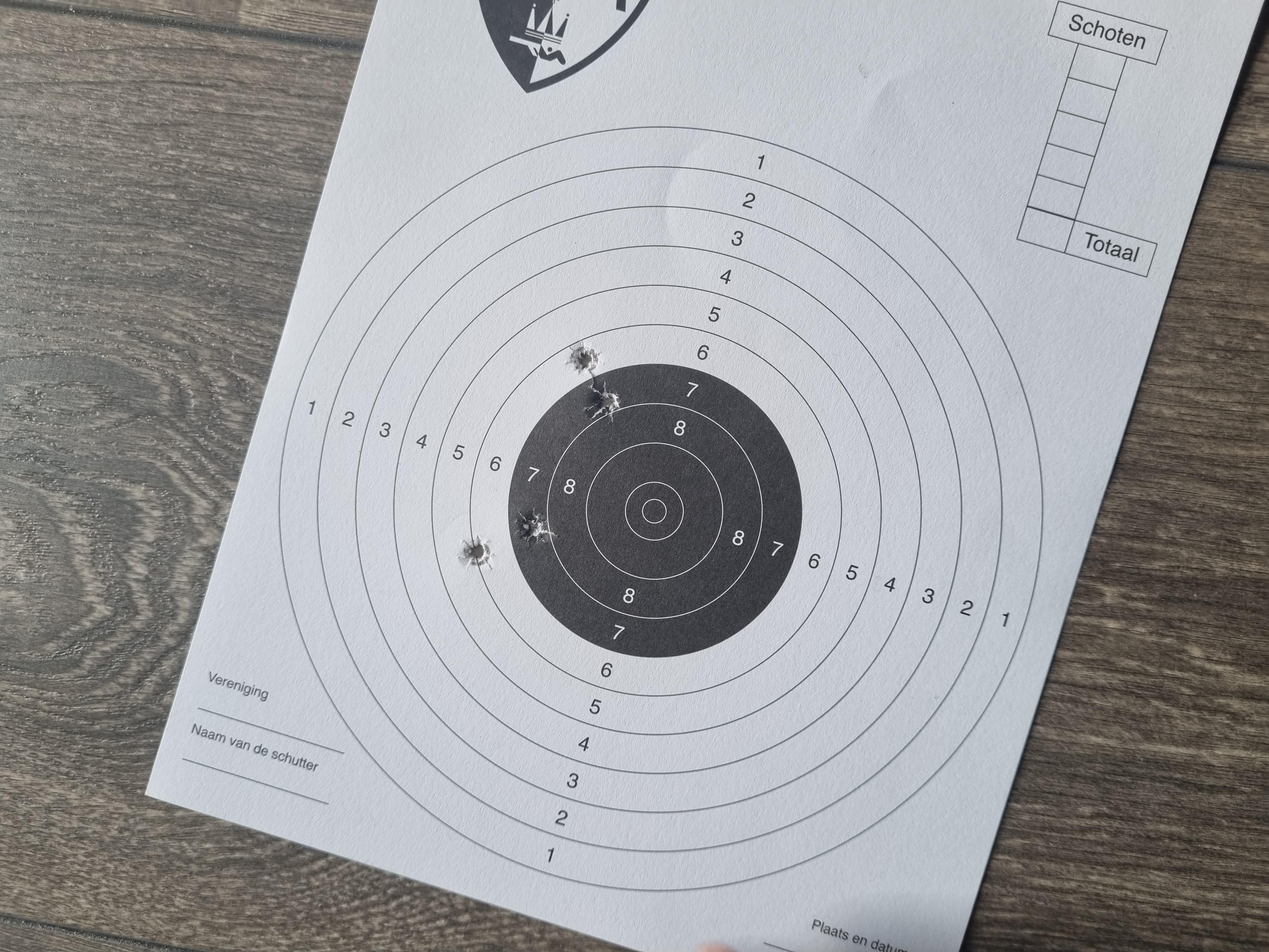hole: (706, 439, 757, 464), (542, 389, 586, 417), (509, 345, 555, 370), (771, 425, 814, 449)
